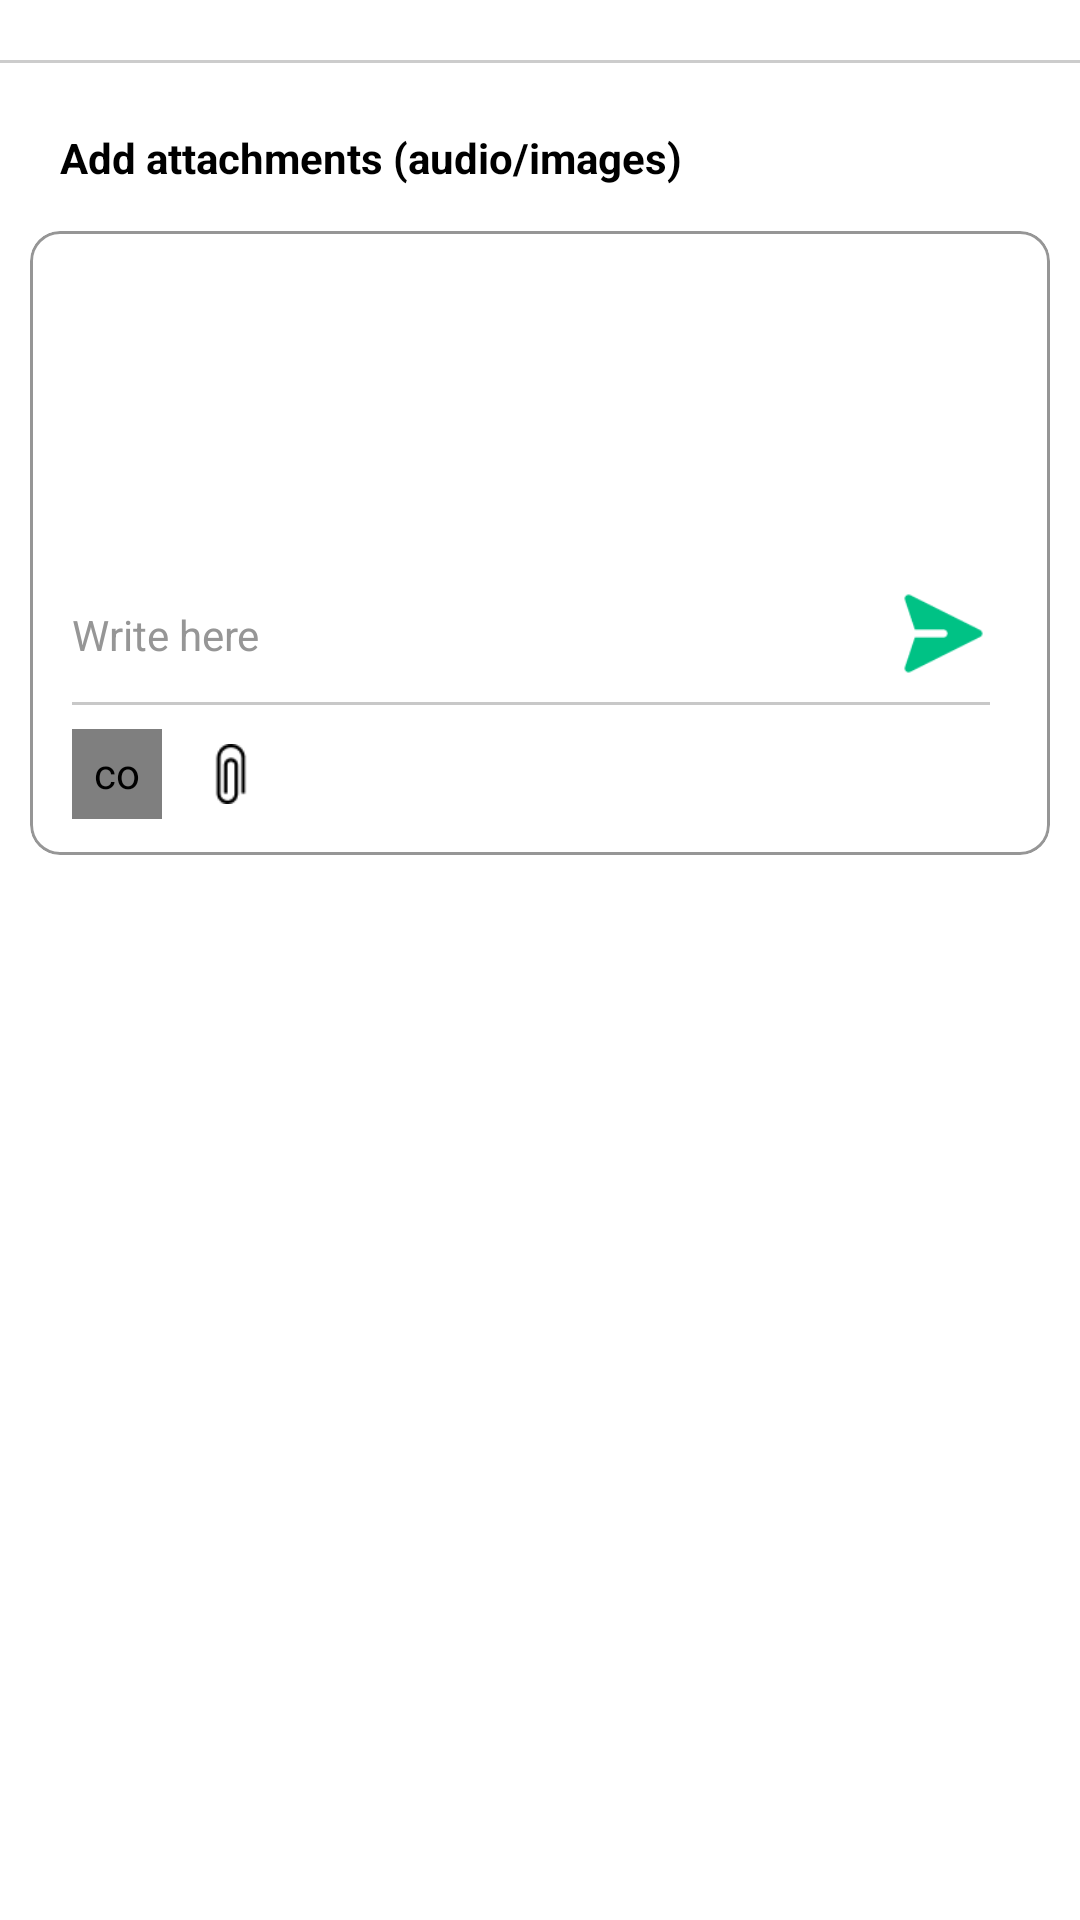

Icon click points for this 1080*1920 phone screenshot, format [x,y]:
send: [943,633]
